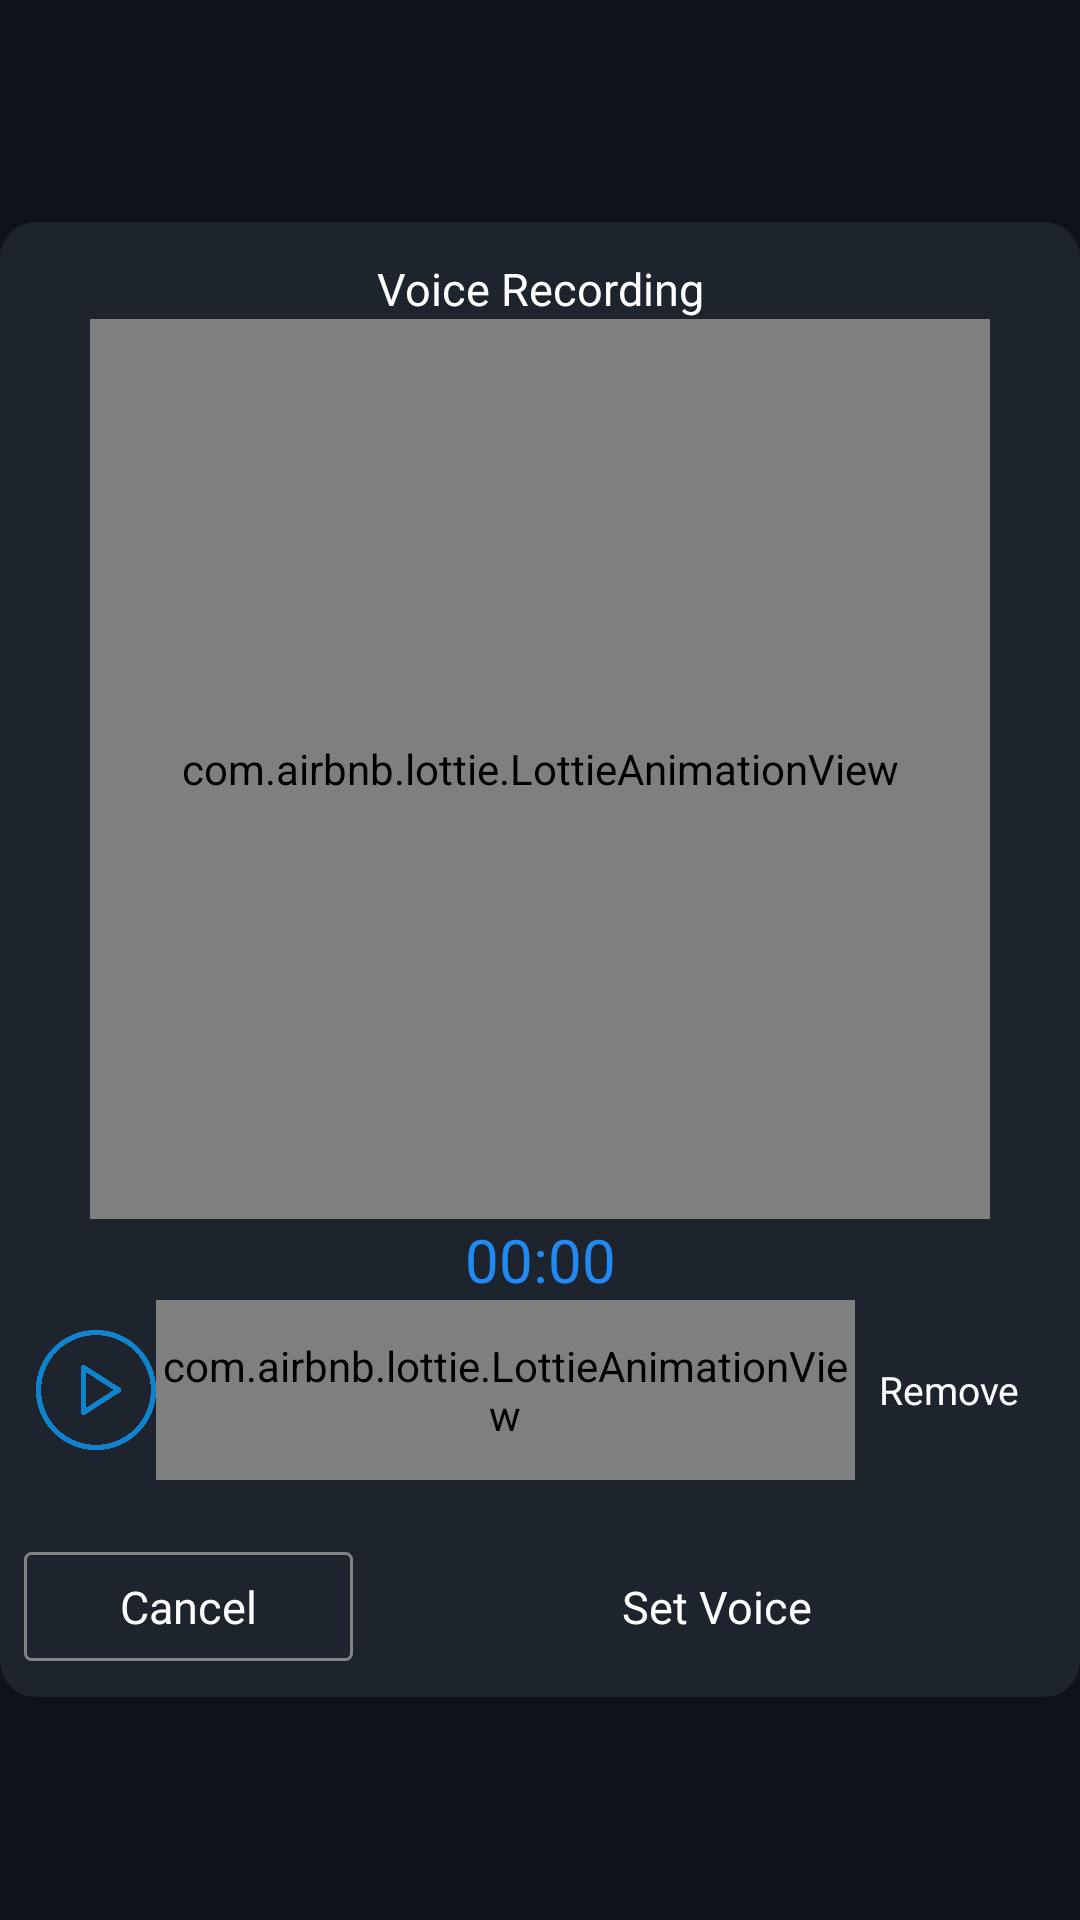

Where to tap for icons on this 1080×1920 app screen, as point (x, y):
play: point (96, 1390)
